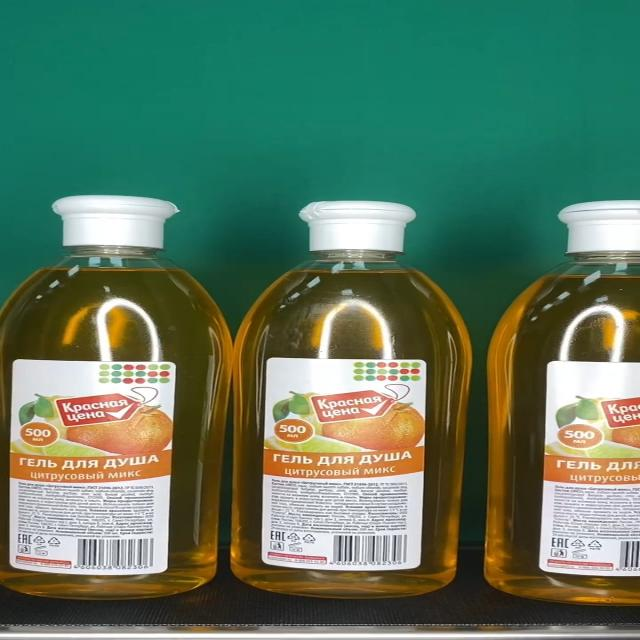Bottle: (232, 201, 476, 598), (0, 196, 233, 598)
Cap: (51, 197, 179, 249), (298, 202, 417, 252)
